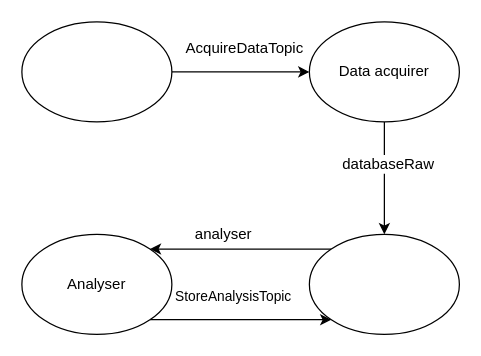
Some shapes in this 481 by 356 pixel diagram are drawn without their labels. The centre of each missing label's shape, as x and y in pixels:
Coordinator: the point at 96,71
Storage: the point at 383,283
